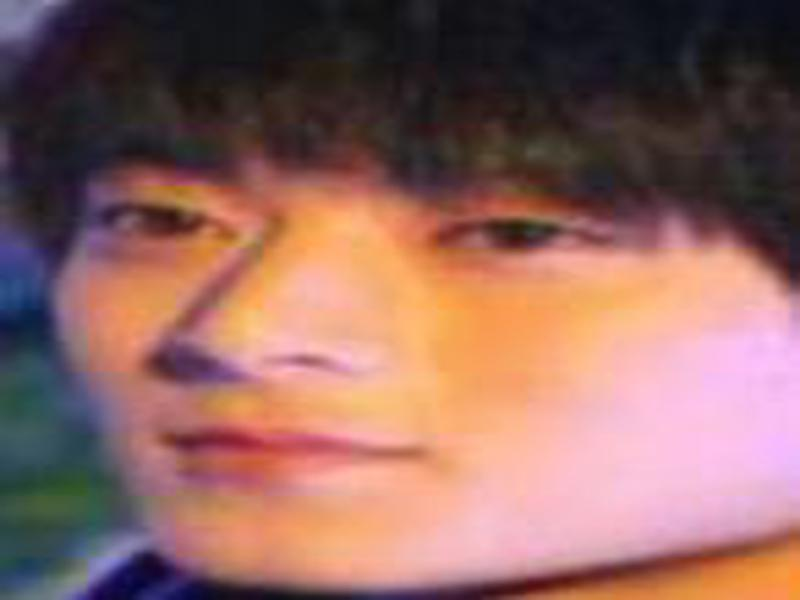without_mask: (48, 116, 765, 585)
